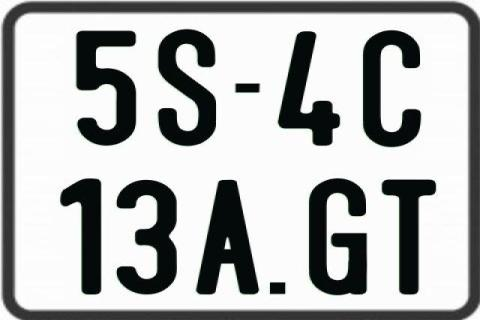0: (117, 179, 182, 297), (278, 29, 342, 147), (75, 29, 139, 145), (58, 176, 102, 296)
A: (194, 180, 262, 297)
C: (362, 30, 422, 148)
G: (306, 177, 368, 297)
S: (158, 26, 219, 144)
T: (379, 177, 437, 297)
